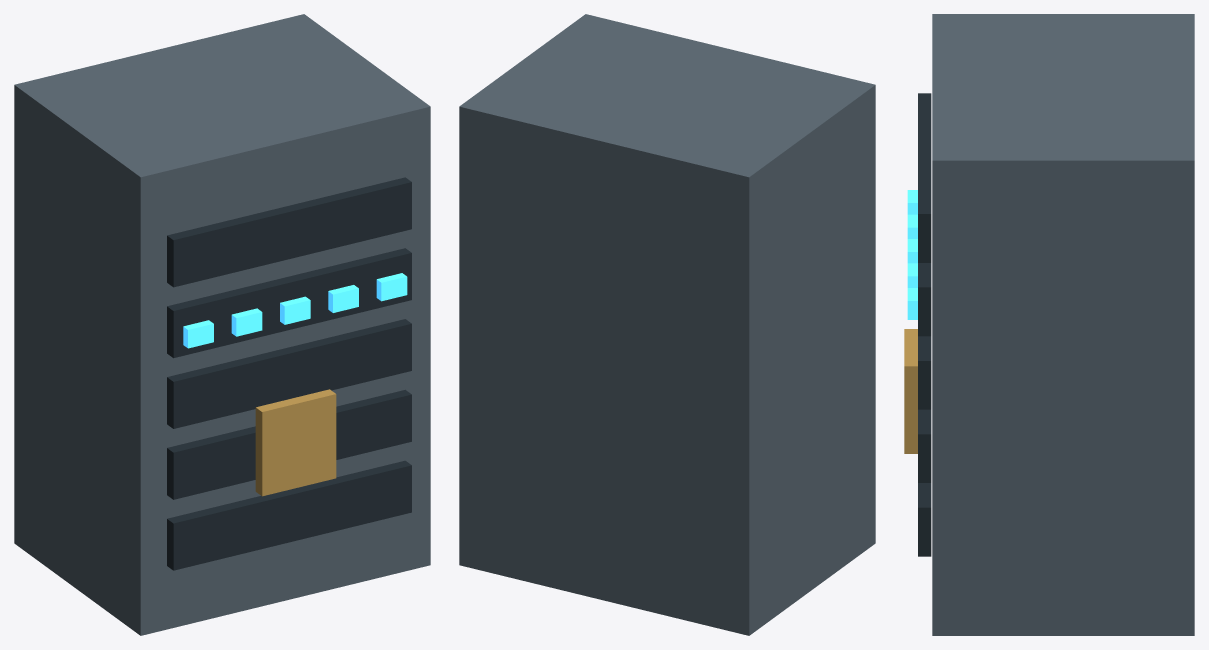
The model's file is secure-switch.glb.
The picture shows the model from 3 angles, left to right: view 1: azimuth 30°, elevation 25°; view 2: azimuth 150°, elevation 25°; view 3: azimuth 270°, elevation 25°; orthographic projection. The views are drawn at different scales.
Parts seen in each view (by area): view 1: secured network vault, switch blade.004, switch blade, switch blade.002, switch blade.003, switch blade.001, tamper lock, encrypted link port.004, encrypted link port.001, encrypted link port.002, encrypted link port, encrypted link port.003; view 2: secured network vault; view 3: secured network vault, switch blade.004, tamper lock, switch blade, switch blade.002, switch blade.001, switch blade.003.
Part boxes in pixels (bbox=[...]): secured network vault: bbox=[14, 14, 430, 635]; switch blade.004: bbox=[167, 177, 411, 287]; switch blade: bbox=[167, 460, 411, 570]; switch blade.002: bbox=[167, 319, 411, 428]; switch blade.003: bbox=[167, 248, 411, 358]; switch blade.001: bbox=[167, 389, 411, 499]; tamper lock: bbox=[255, 389, 336, 496]; encrypted link port.004: bbox=[376, 273, 407, 301]; encrypted link port.001: bbox=[231, 308, 262, 336]; encrypted link port.002: bbox=[280, 296, 310, 324]; encrypted link port: bbox=[183, 320, 213, 348]; encrypted link port.003: bbox=[328, 285, 358, 312]; secured network vault: bbox=[459, 14, 875, 635]; secured network vault: bbox=[932, 14, 1194, 635]; switch blade.004: bbox=[918, 93, 931, 262]; tamper lock: bbox=[904, 329, 917, 453]; switch blade: bbox=[918, 483, 931, 556]; switch blade.002: bbox=[918, 336, 931, 409]; switch blade.001: bbox=[918, 409, 931, 482]; switch blade.003: bbox=[918, 263, 931, 336].
Bounding box in the file's own units: 0.9 × 1.36 × 0.7525.
